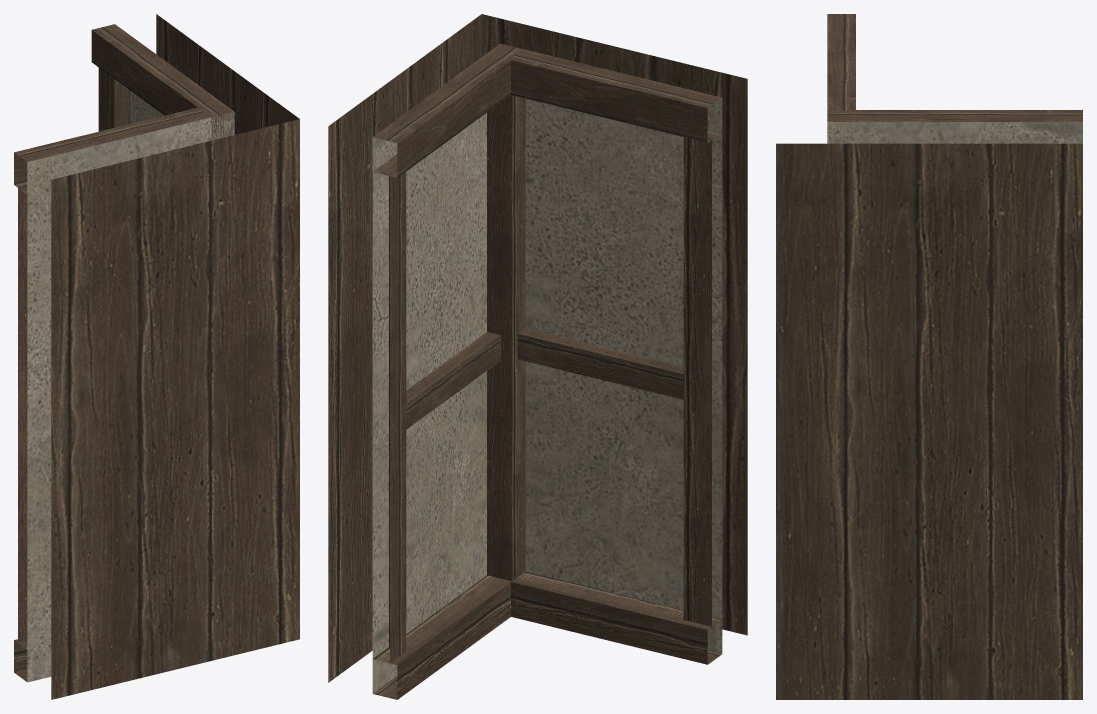
Rendered from ARC1010253.fbx.
The picture shows the model from 3 angles, left to right: view 1: azimuth 30°, elevation 25°; view 2: azimuth 150°, elevation 25°; view 3: azimuth 270°, elevation 25°; orthographic projection. The views are drawn at different scales.
Visible parts, largest first — view 1: smARC1010253; view 2: smARC1010253; view 3: smARC1010253.
Boxes of the visible parts, <box> form: smARC1010253: <box>14,14,299,699</box>; smARC1010253: <box>328,14,747,699</box>; smARC1010253: <box>776,14,1082,699</box>.
Bounding box in the file's own units: 134 × 268 × 134.
Materials: 1 (1 with a texture image).
